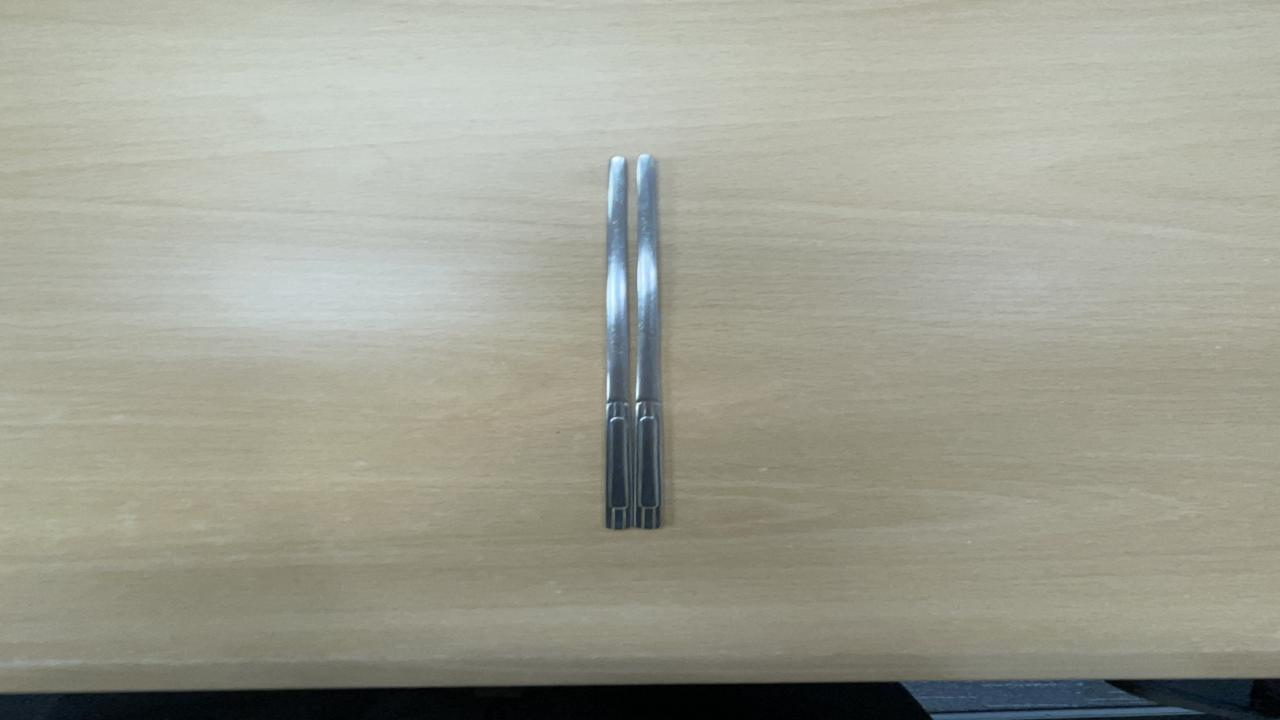chopstick: (599, 154, 669, 528)
